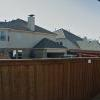Chimney: (22, 9, 45, 34)
